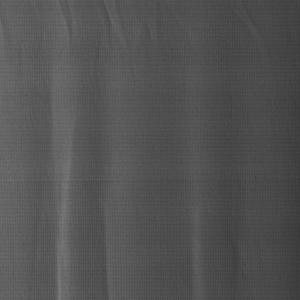Wrinkle: (1, 1, 300, 88), (26, 69, 79, 300), (172, 76, 215, 300), (95, 200, 120, 300)
